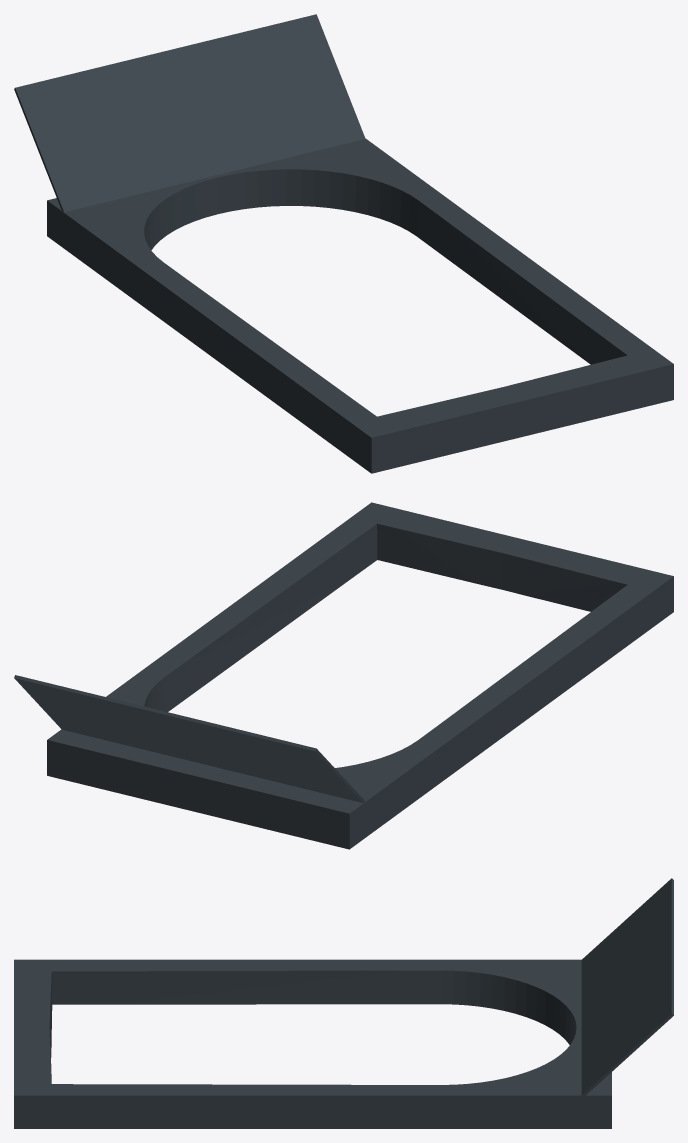
File: frame.obj
3 renders of one model, top to bottom at view 1: azimuth 30°, elevation 25°; view 2: azimuth 150°, elevation 25°; view 3: azimuth 270°, elevation 25°, orthographic. The views are drawn at different scales.
Visible parts, largest first — view 1: Cube.003_Cube; view 2: Cube.003_Cube; view 3: Cube.003_Cube.
Part boxes in pixels (box(x1,y1,x2,y2)): Cube.003_Cube: box(14, 14, 673, 473); Cube.003_Cube: box(14, 502, 673, 849); Cube.003_Cube: box(14, 878, 673, 1128).
Size of the model in its own units: 8.2 by 3.23 by 16.82.
Materials: 1 (1 with a texture image).
